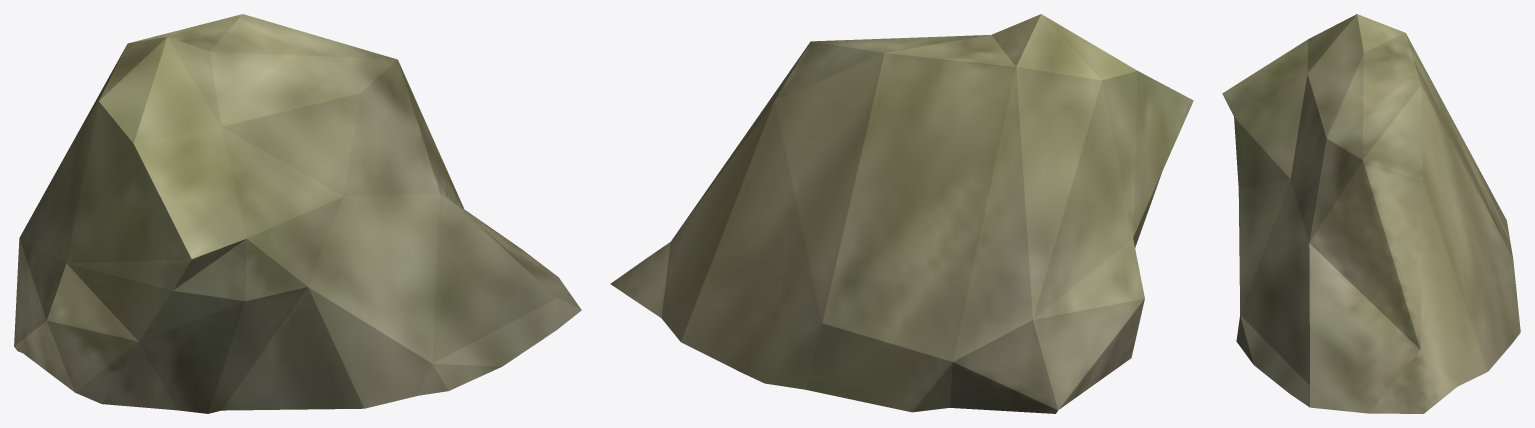
3 renders of one model, left to right at view 1: azimuth 30°, elevation 25°; view 2: azimuth 150°, elevation 25°; view 3: azimuth 270°, elevation 25°, orthographic. The views are drawn at different scales.
Size of the model in its own units: 0.6593 by 0.421 by 0.4468.
1 material, 1 textured.
